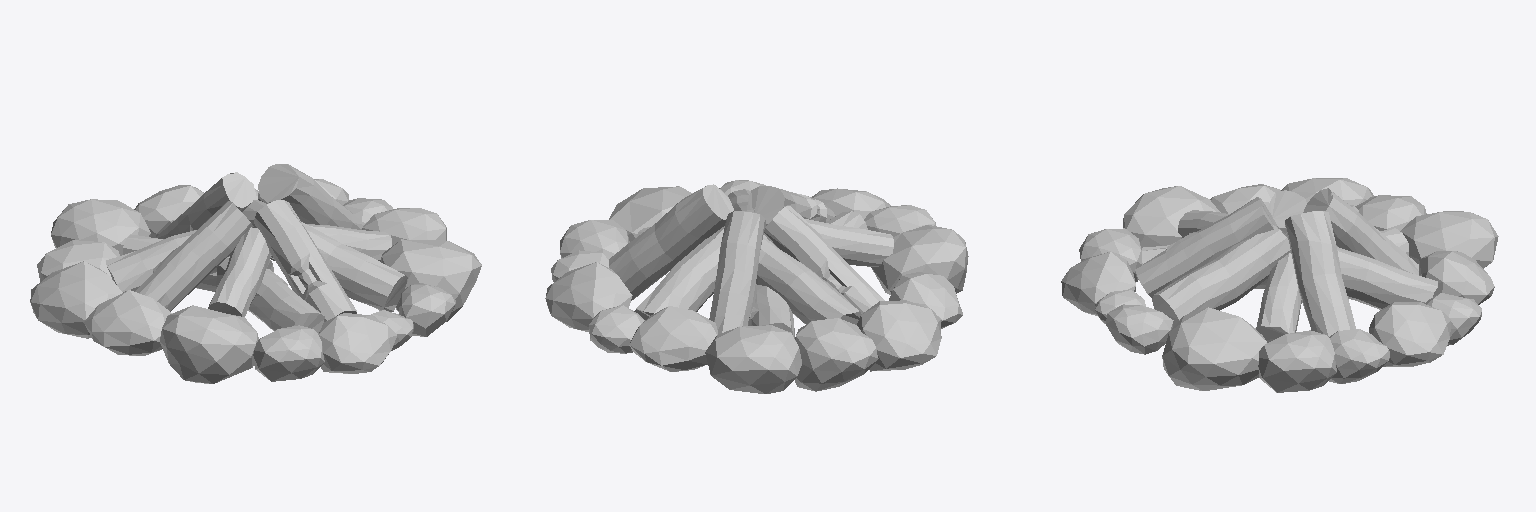
File: CampFire.obj
3 renders of one model, left to right at view 1: azimuth 30°, elevation 25°; view 2: azimuth 150°, elevation 25°; view 3: azimuth 270°, elevation 25°, orthographic.
Visible parts, largest first — view 1: Icosphere.013, Cylinder.010_Cylinder.011; view 2: Icosphere.013, Cylinder.010_Cylinder.011; view 3: Icosphere.013, Cylinder.010_Cylinder.011.
Part boxes in pixels (left/top/right/bottom): Icosphere.013: left=30, top=179, right=481, bottom=383; Cylinder.010_Cylinder.011: left=106, top=164, right=407, bottom=334; Icosphere.013: left=545, top=180, right=968, bottom=393; Cylinder.010_Cylinder.011: left=609, top=184, right=893, bottom=338; Icosphere.013: left=1061, top=178, right=1498, bottom=392; Cylinder.010_Cylinder.011: left=1135, top=188, right=1437, bottom=342.
Size of the model in its own units: 2.81 by 0.9487 by 2.76.